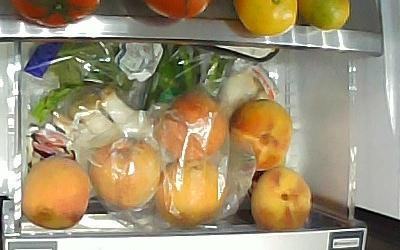peach: (24, 156, 90, 231), (230, 99, 294, 172), (252, 168, 313, 232)
peach_vinyl: (88, 133, 161, 211), (155, 88, 228, 163), (160, 158, 226, 228)
